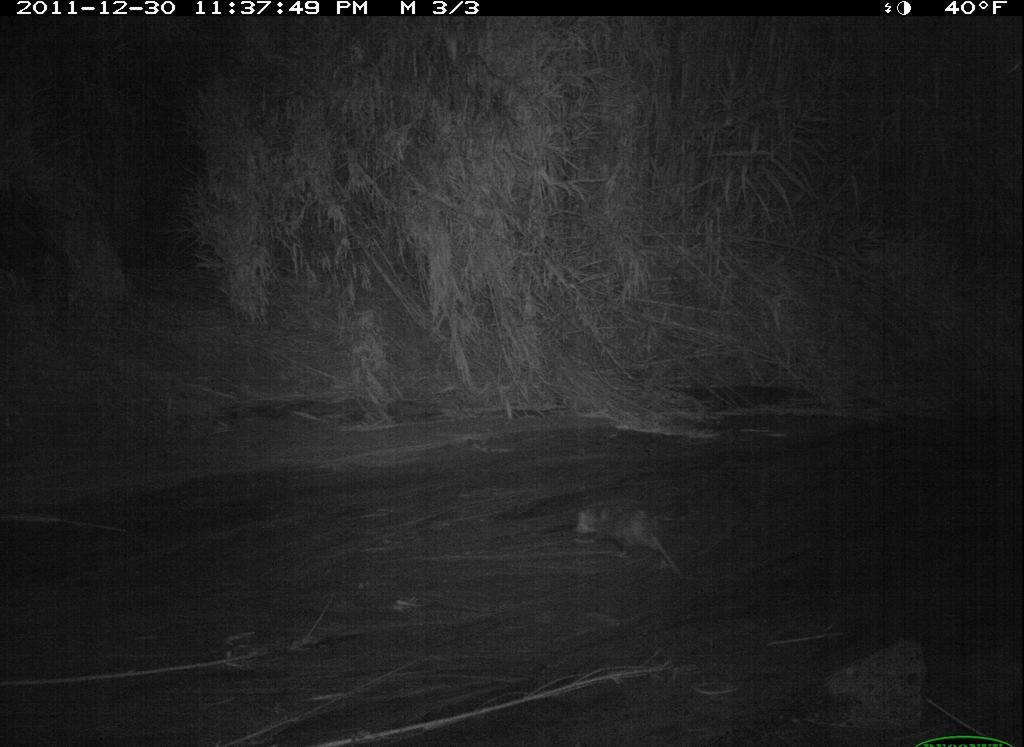opossum: (570, 493, 690, 579)
